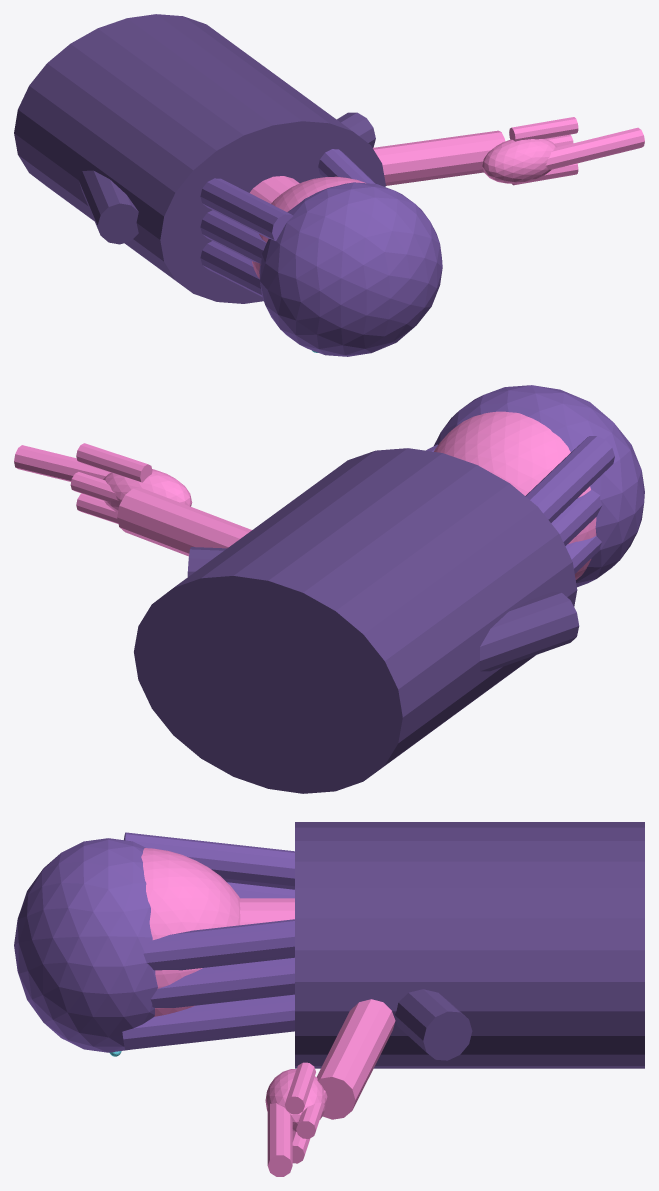
The model's file is Cyberpunk_Hologram_Pointing.glb.
The picture shows the model from 3 angles, top to bottom: view 1: azimuth 30°, elevation 25°; view 2: azimuth 150°, elevation 25°; view 3: azimuth 270°, elevation 25°; orthographic projection. The views are drawn at different scales.
Parts seen in each view (by area): view 1: Torso, HairCap, RightForearm, HairStrand_-1_2, LeftArm, RightPalm, PointingFinger, HairStrand_-1_1, HairStrand_-1_0, Head, Finger_2, HairStrand_1_2 (+2 smaller); view 2: Torso, HairCap, Head, RightForearm, LeftArm, HairStrand_-1_2, PointingFinger, RightPalm, Finger_2, HairStrand_-1_1, Finger_1, HairStrand_-1_0 (+2 smaller); view 3: Torso, HairCap, Head, HairStrand_1_0, HairStrand_1_2, RightForearm, HairStrand_1_1, HairStrand_-1_2, RightUpperArm, PointingFinger, Neck, RightPalm (+3 smaller).
Boxes of the visible parts, x1,y1,x2,y2 form: Torso: [14, 14, 385, 303]; HairCap: [259, 182, 442, 356]; RightForearm: [373, 130, 505, 185]; HairStrand_-1_2: [200, 178, 292, 240]; LeftArm: [79, 170, 138, 244]; RightPalm: [482, 139, 557, 183]; PointingFinger: [545, 127, 644, 169]; HairStrand_-1_1: [200, 210, 266, 263]; HairStrand_-1_0: [200, 241, 262, 296]; Head: [252, 176, 365, 278]; Finger_2: [509, 117, 578, 141]; HairStrand_1_2: [318, 149, 375, 183]; Torso: [134, 448, 577, 793]; HairCap: [434, 385, 644, 587]; Head: [434, 411, 596, 579]; RightForearm: [117, 487, 251, 556]; LeftArm: [480, 591, 579, 671]; HairStrand_-1_2: [525, 436, 614, 522]; PointingFinger: [14, 445, 110, 481]; RightPalm: [103, 469, 192, 512]; Finger_2: [76, 443, 152, 482]; HairStrand_-1_1: [551, 490, 602, 545]; Finger_1: [70, 472, 118, 501]; HairStrand_-1_0: [565, 535, 601, 573]; Torso: [295, 822, 644, 1068]; HairCap: [14, 838, 157, 1052]; Head: [141, 848, 240, 1016]; HairStrand_1_0: [122, 994, 294, 1050]; HairStrand_1_2: [143, 919, 294, 970]; RightForearm: [317, 999, 395, 1119]; HairStrand_1_1: [150, 957, 294, 1007]; HairStrand_-1_2: [124, 832, 294, 889]; RightUpperArm: [395, 989, 472, 1060]; PointingFinger: [267, 1103, 292, 1176]; Neck: [240, 898, 294, 925]; RightPalm: [265, 1069, 326, 1132].
Bounding box in the file's own units: 3.09 × 1.02 × 2.79.
